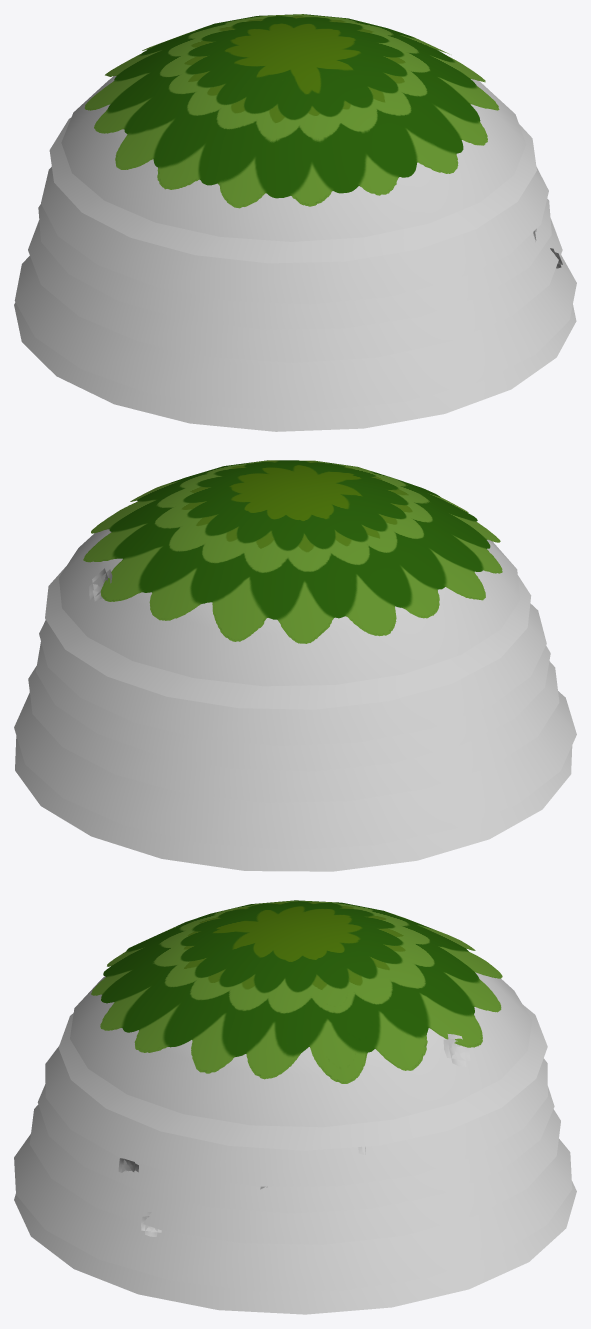
The model's file is Flower bush.fbx.
The picture shows the model from 3 angles, top to bottom: view 1: azimuth 30°, elevation 25°; view 2: azimuth 150°, elevation 25°; view 3: azimuth 270°, elevation 25°; orthographic projection.
Visible parts, largest first — view 1: Bush; view 2: Bush; view 3: Bush, Flower_bush_Flowers_Flowers.
Part boxes in pixels (<box>): Bush: <box>14,14,576,431</box>; Bush: <box>14,460,576,871</box>; Bush: <box>14,900,576,1314</box>; Flower_bush_Flowers_Flowers: <box>118,1034,470,1236</box>.
Bounding box in the file's own units: 5.86 × 3.06 × 5.86.
